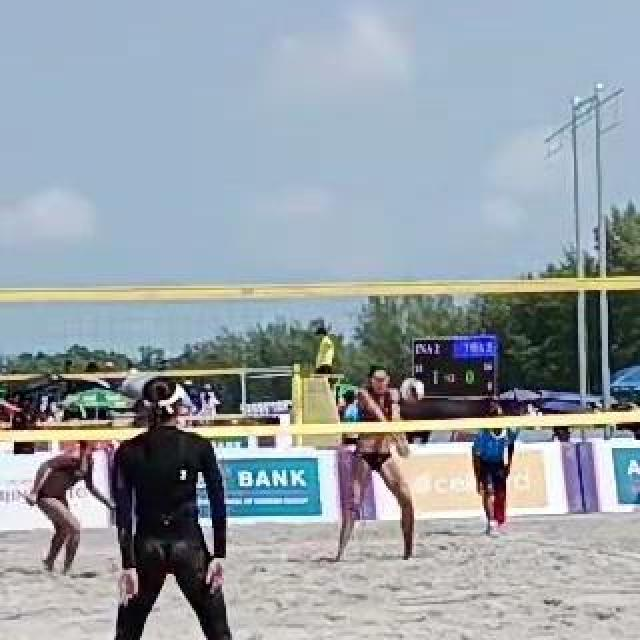volleyball: (400, 377, 424, 403)
